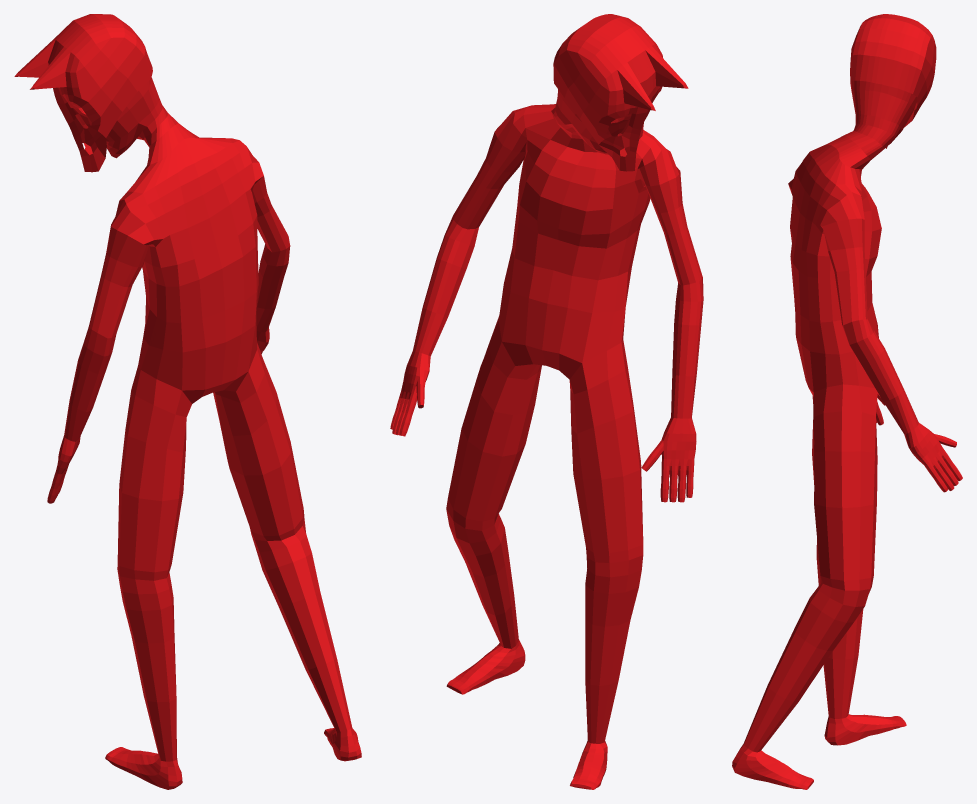
File: reposoE_000244.obj
The picture shows the model from 3 angles, left to right: view 1: azimuth 30°, elevation 25°; view 2: azimuth 150°, elevation 25°; view 3: azimuth 270°, elevation 25°; orthographic projection. The views are drawn at different scales.
Visible parts, largest first — view 1: Plane.002_Plane.001; view 2: Plane.002_Plane.001; view 3: Plane.002_Plane.001.
Part boxes in pixels (bbox=[...]): Plane.002_Plane.001: bbox=[14, 14, 361, 789]; Plane.002_Plane.001: bbox=[390, 14, 703, 789]; Plane.002_Plane.001: bbox=[732, 14, 962, 789].
Size of the model in its own units: 2.68 by 6.99 by 2.07.
